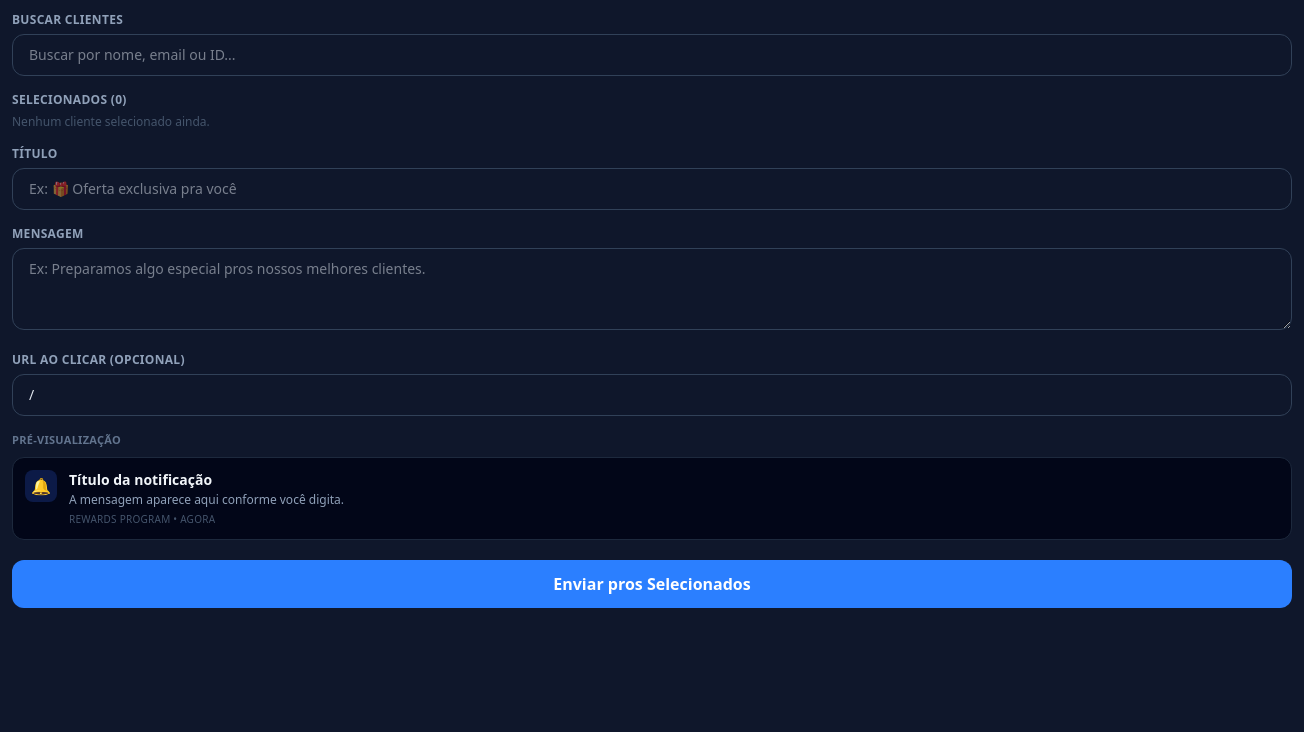
Scenario: SelectedTab › remove um cliente selecionado ao clicar no chip
This screenshot has width=1304, height=732.
Type "joao" into the field with placeholder "Buscar por nome, email ou ID..." at (652, 55), box [12, 34, 1292, 76]
Wait 300 ms
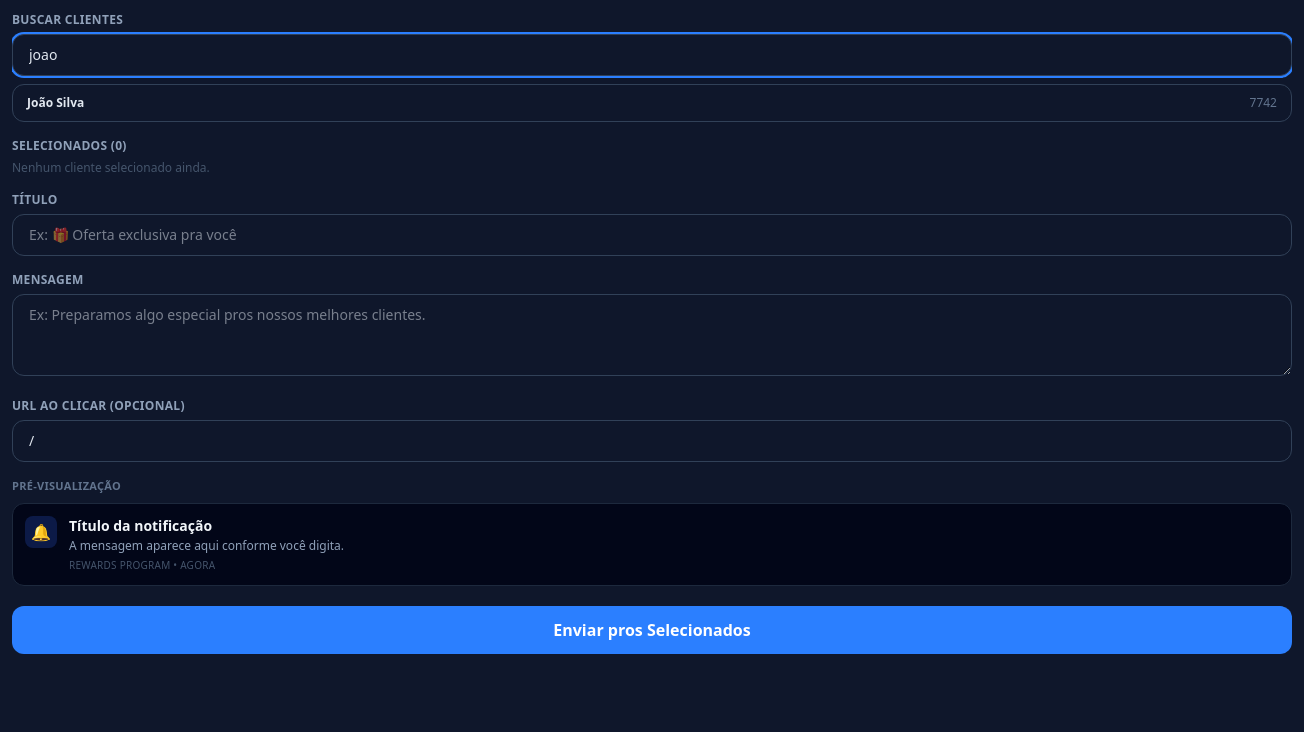
Click the text "João Silva" at (56, 103), box [27, 95, 84, 111]
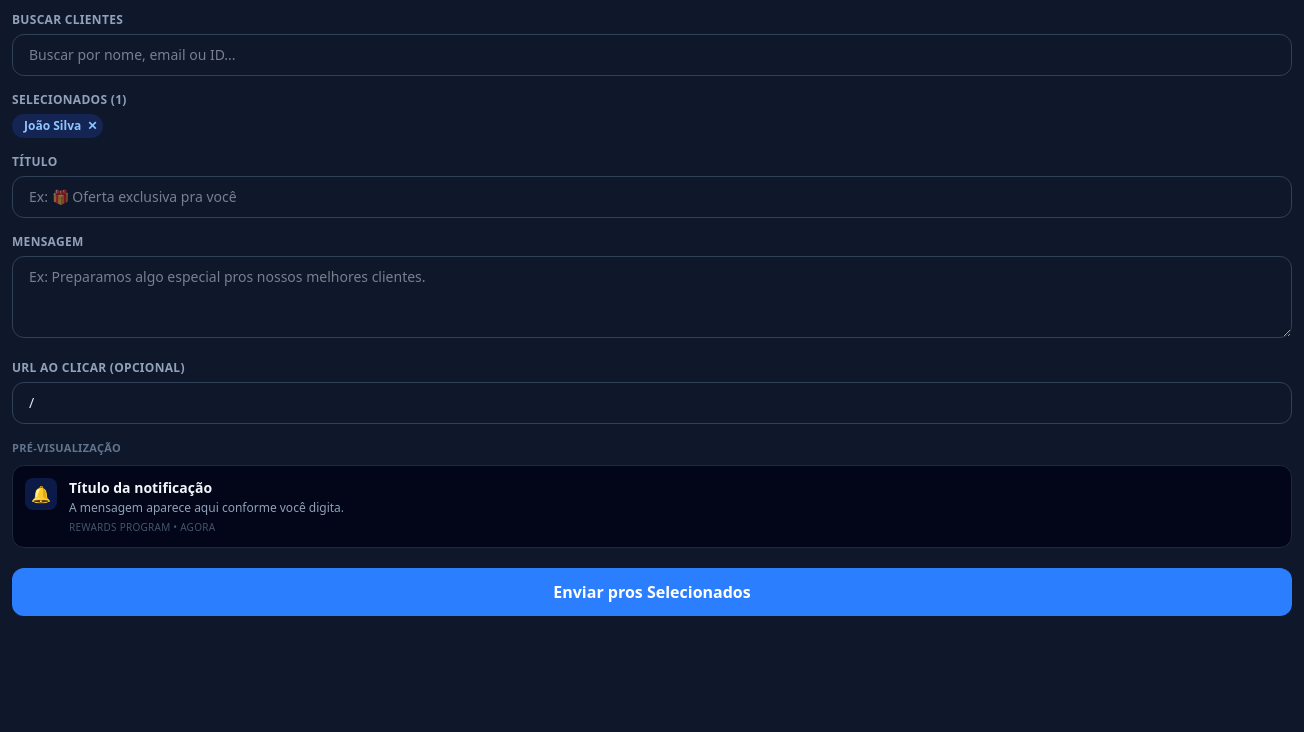
Result: the text "João Silva" is shown at [24, 117, 81, 134]
Click the button named "Remover João Silva" at (92, 126), box [87, 118, 97, 134]
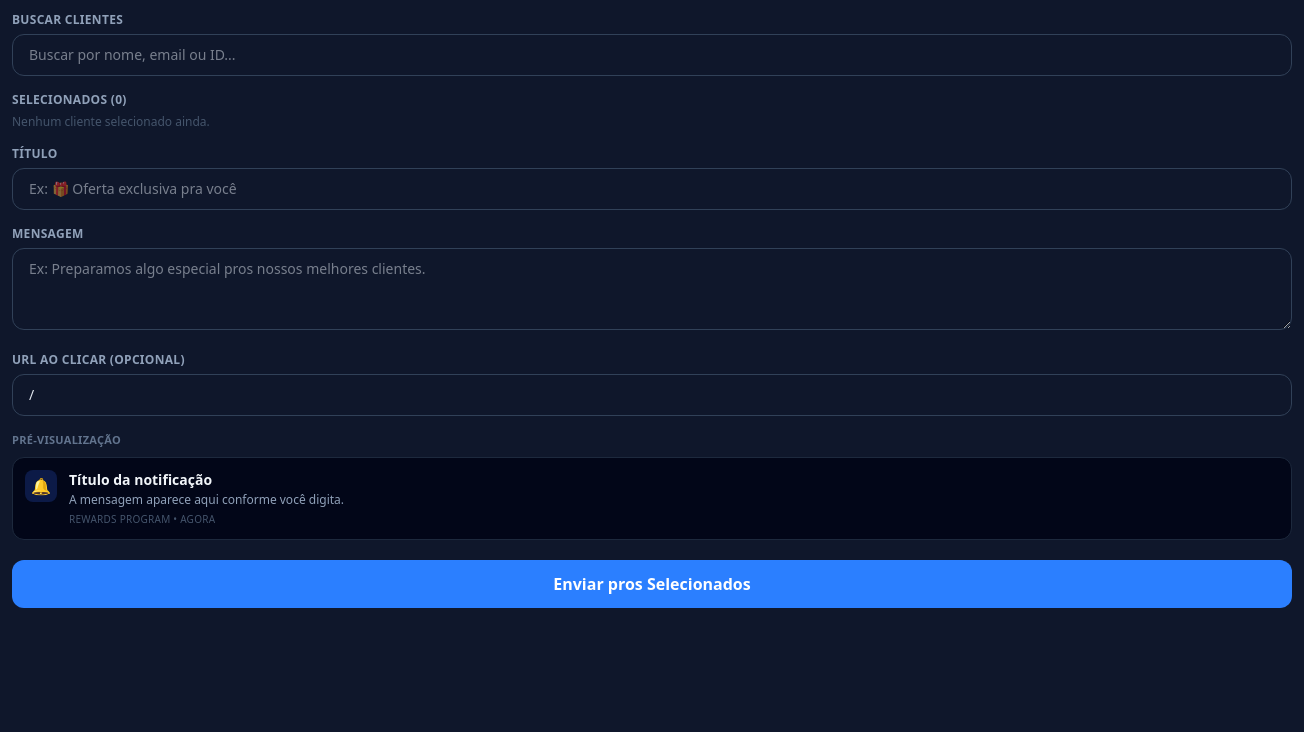
Result: the text "João Silva" is gone
